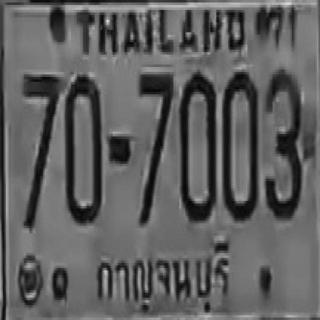N00: (178, 71, 216, 219), (64, 73, 101, 222), (221, 70, 258, 218)
N03: (264, 68, 301, 217)
N07: (22, 72, 60, 226), (138, 72, 172, 223), (22, 72, 60, 179), (138, 72, 172, 181)
P17: (89, 238, 232, 319)
